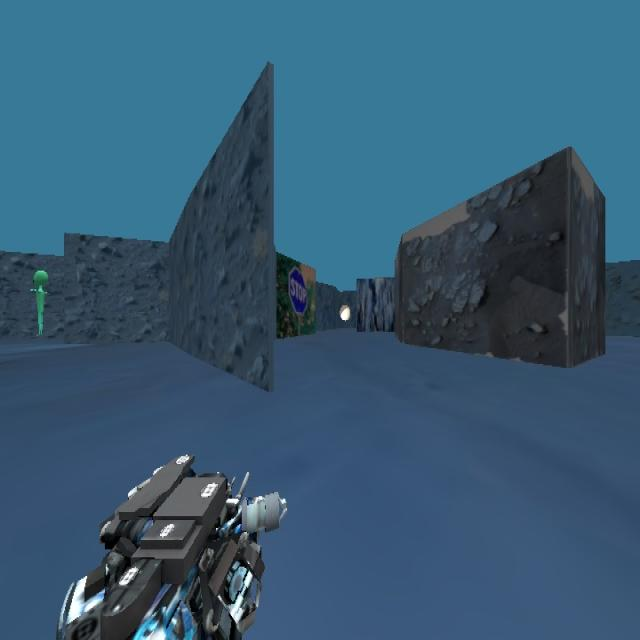Alien: (29, 268, 49, 336)
Circle: (338, 300, 355, 328)
Stop_Sign: (287, 265, 308, 316)
